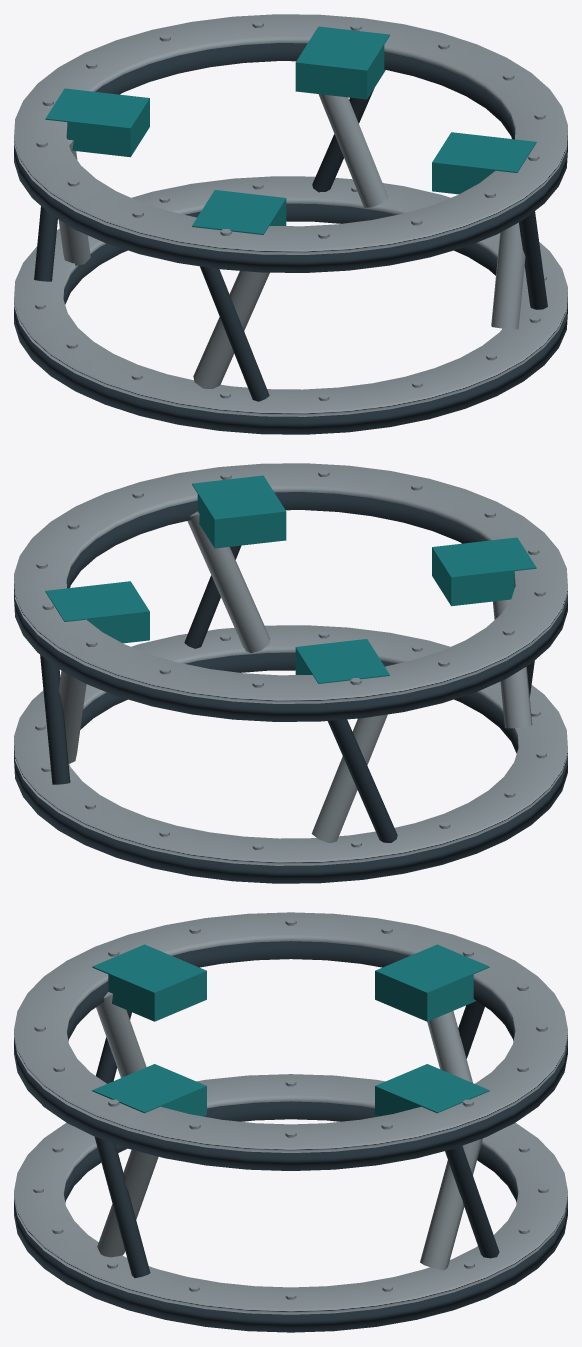
Rendered from pn_1_polka.glb.
3 views of the same model, one above another, from view 1: azimuth 30°, elevation 25°; view 2: azimuth 150°, elevation 25°; view 3: azimuth 270°, elevation 25° (orthographic).
Visible parts, largest first — view 1: pn_1_polka.mesh_JUGRE_·_bead-blasted_titanium, pn_1_polka.mesh_JUGRE_·_graphite_composite, pn_1_polka.payload_plate_02.mesh_JUGRE_·_signal_teal, pn_1_polka.payload_plate_03.mesh_JUGRE_·_signal_teal, pn_1_polka.payload_plate_01.mesh_JUGRE_·_signal_teal, pn_1_polka.brace_02.mesh_JUGRE_·_bead-blasted_titanium, pn_1_polka.payload_plate_04.mesh_JUGRE_·_signal_teal, pn_1_polka.brace_04.mesh_JUGRE_·_bead-blasted_titanium, pn_1_polka.brace_01.mesh_JUGRE_·_bead-blasted_titanium, pn_1_polka.brace_04.mesh_JUGRE_·_graphite_composite, pn_1_polka.brace_01.mesh_JUGRE_·_graphite_composite, pn_1_polka.brace_03.mesh_JUGRE_·_graphite_composite (+2 smaller); view 2: pn_1_polka.mesh_JUGRE_·_bead-blasted_titanium, pn_1_polka.mesh_JUGRE_·_graphite_composite, pn_1_polka.payload_plate_01.mesh_JUGRE_·_signal_teal, pn_1_polka.payload_plate_04.mesh_JUGRE_·_signal_teal, pn_1_polka.payload_plate_02.mesh_JUGRE_·_signal_teal, pn_1_polka.brace_01.mesh_JUGRE_·_bead-blasted_titanium, pn_1_polka.payload_plate_03.mesh_JUGRE_·_signal_teal, pn_1_polka.brace_03.mesh_JUGRE_·_bead-blasted_titanium, pn_1_polka.brace_03.mesh_JUGRE_·_graphite_composite, pn_1_polka.brace_02.mesh_JUGRE_·_graphite_composite, pn_1_polka.brace_04.mesh_JUGRE_·_bead-blasted_titanium, pn_1_polka.brace_02.mesh_JUGRE_·_bead-blasted_titanium (+1 smaller); view 3: pn_1_polka.mesh_JUGRE_·_bead-blasted_titanium, pn_1_polka.mesh_JUGRE_·_graphite_composite, pn_1_polka.payload_plate_03.mesh_JUGRE_·_signal_teal, pn_1_polka.payload_plate_04.mesh_JUGRE_·_signal_teal, pn_1_polka.payload_plate_01.mesh_JUGRE_·_signal_teal, pn_1_polka.payload_plate_02.mesh_JUGRE_·_signal_teal, pn_1_polka.brace_02.mesh_JUGRE_·_bead-blasted_titanium, pn_1_polka.brace_01.mesh_JUGRE_·_graphite_composite, pn_1_polka.brace_01.mesh_JUGRE_·_bead-blasted_titanium, pn_1_polka.brace_02.mesh_JUGRE_·_graphite_composite, pn_1_polka.brace_04.mesh_JUGRE_·_bead-blasted_titanium, pn_1_polka.brace_03.mesh_JUGRE_·_bead-blasted_titanium (+2 smaller).
Boxes of the visible parts, box(x1,y1,x2,y2) form: pn_1_polka.mesh_JUGRE_·_bead-blasted_titanium: box(14, 14, 567, 416); pn_1_polka.mesh_JUGRE_·_graphite_composite: box(14, 43, 567, 434); pn_1_polka.payload_plate_02.mesh_JUGRE_·_signal_teal: box(295, 26, 389, 99); pn_1_polka.payload_plate_03.mesh_JUGRE_·_signal_teal: box(45, 88, 149, 157); pn_1_polka.payload_plate_01.mesh_JUGRE_·_signal_teal: box(432, 132, 536, 194); pn_1_polka.brace_02.mesh_JUGRE_·_bead-blasted_titanium: box(318, 94, 388, 207); pn_1_polka.payload_plate_04.mesh_JUGRE_·_signal_teal: box(192, 190, 286, 234); pn_1_polka.brace_04.mesh_JUGRE_·_bead-blasted_titanium: box(193, 271, 269, 388); pn_1_polka.brace_01.mesh_JUGRE_·_bead-blasted_titanium: box(491, 222, 525, 329); pn_1_polka.brace_04.mesh_JUGRE_·_graphite_composite: box(200, 266, 269, 401); pn_1_polka.brace_01.mesh_JUGRE_·_graphite_composite: box(519, 211, 547, 309); pn_1_polka.brace_03.mesh_JUGRE_·_graphite_composite: box(34, 206, 57, 281); pn_1_polka.mesh_JUGRE_·_bead-blasted_titanium: box(14, 463, 567, 865); pn_1_polka.mesh_JUGRE_·_graphite_composite: box(14, 492, 567, 883); pn_1_polka.payload_plate_01.mesh_JUGRE_·_signal_teal: box(192, 475, 286, 548); pn_1_polka.payload_plate_04.mesh_JUGRE_·_signal_teal: box(432, 537, 536, 606); pn_1_polka.payload_plate_02.mesh_JUGRE_·_signal_teal: box(45, 581, 149, 643); pn_1_polka.brace_01.mesh_JUGRE_·_bead-blasted_titanium: box(187, 511, 270, 652); pn_1_polka.payload_plate_03.mesh_JUGRE_·_signal_teal: box(295, 639, 389, 683); pn_1_polka.brace_03.mesh_JUGRE_·_bead-blasted_titanium: box(311, 714, 387, 842); pn_1_polka.brace_03.mesh_JUGRE_·_graphite_composite: box(327, 719, 397, 842); pn_1_polka.brace_02.mesh_JUGRE_·_graphite_composite: box(40, 655, 70, 784); pn_1_polka.brace_04.mesh_JUGRE_·_bead-blasted_titanium: box(493, 599, 532, 728); pn_1_polka.brace_02.mesh_JUGRE_·_bead-blasted_titanium: box(58, 670, 86, 763); pn_1_polka.mesh_JUGRE_·_bead-blasted_titanium: box(14, 912, 567, 1314); pn_1_polka.mesh_JUGRE_·_graphite_composite: box(14, 941, 567, 1332); pn_1_polka.payload_plate_03.mesh_JUGRE_·_signal_teal: box(375, 944, 489, 1021); pn_1_polka.payload_plate_04.mesh_JUGRE_·_signal_teal: box(92, 944, 206, 1021); pn_1_polka.payload_plate_01.mesh_JUGRE_·_signal_teal: box(92, 1064, 206, 1116); pn_1_polka.payload_plate_02.mesh_JUGRE_·_signal_teal: box(375, 1064, 489, 1116); pn_1_polka.brace_02.mesh_JUGRE_·_bead-blasted_titanium: box(420, 1138, 482, 1270); pn_1_polka.brace_01.mesh_JUGRE_·_graphite_composite: box(94, 1137, 150, 1277); pn_1_polka.brace_01.mesh_JUGRE_·_bead-blasted_titanium: box(97, 1150, 158, 1257); pn_1_polka.brace_02.mesh_JUGRE_·_graphite_composite: box(445, 1146, 499, 1258); pn_1_polka.brace_04.mesh_JUGRE_·_bead-blasted_titanium: box(96, 992, 146, 1077); pn_1_polka.brace_03.mesh_JUGRE_·_bead-blasted_titanium: box(427, 1011, 472, 1082).
Bounding box in the file's own units: 1.25 × 0.47 × 1.25.
